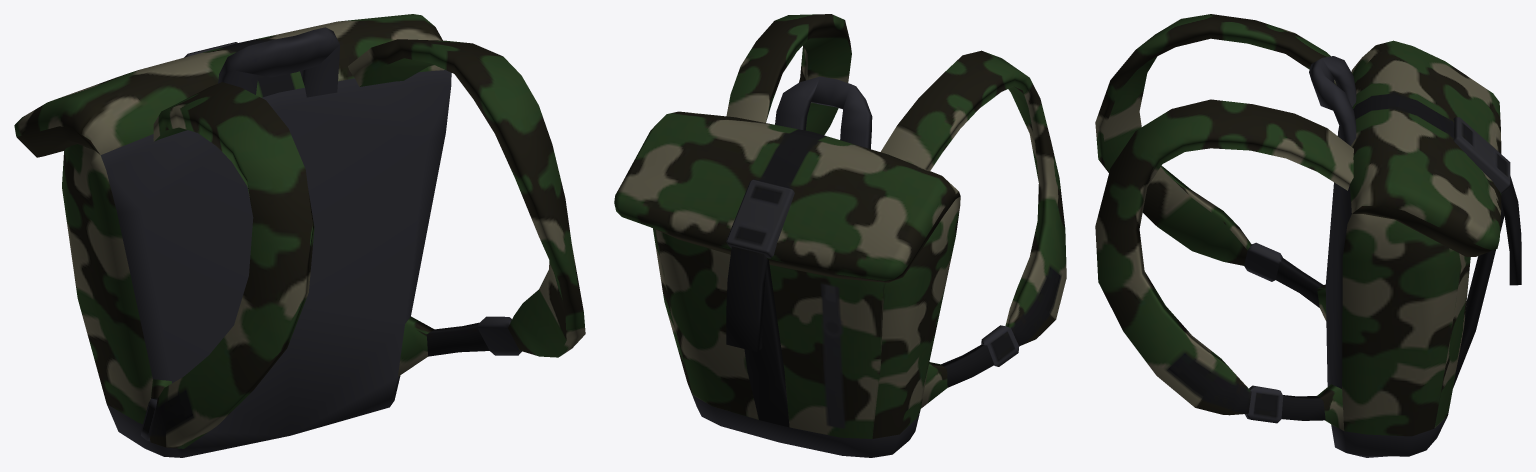
The model's file is BagBackpackLid0.glb.
3 views of the same model, side by side, from view 1: azimuth 30°, elevation 25°; view 2: azimuth 150°, elevation 25°; view 3: azimuth 270°, elevation 25° (orthographic). The views are drawn at different scales.
Parts seen in each view (by area): view 1: Body__mBag; view 2: Body__mBag; view 3: Body__mBag.
Part boxes in pixels (box(x1,y1,x2,y2)): Body__mBag: box(14, 14, 585, 457); Body__mBag: box(614, 14, 1066, 457); Body__mBag: box(1095, 14, 1521, 457).
Bounding box in the file's own units: 3.78 × 3.79 × 4.1.
1 material, 1 textured.
